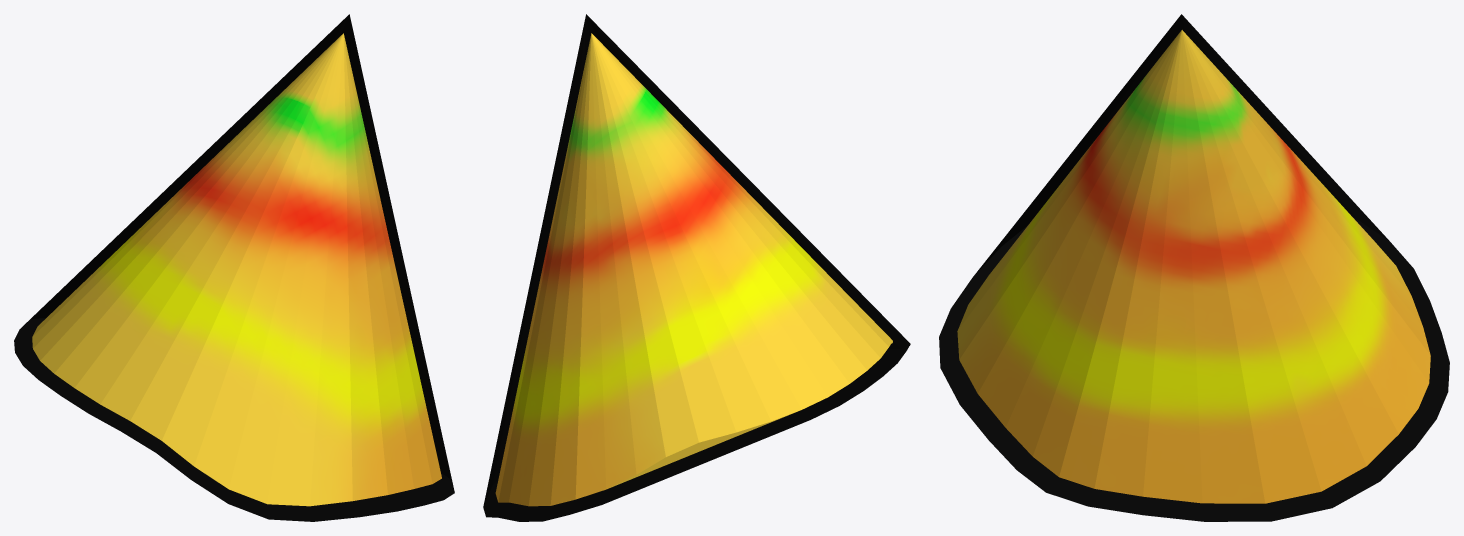
The model's file is 生日帽.fbx.
3 views of the same model, side by side, from view 1: azimuth 30°, elevation 25°; view 2: azimuth 150°, elevation 25°; view 3: azimuth 270°, elevation 25° (orthographic). The views are drawn at different scales.
Parts seen in each view (by area): view 1: 锥体; view 2: 锥体; view 3: 锥体.
Part boxes in pixels (<box>): 锥体: <box>14,14,454,521</box>; 锥体: <box>483,14,910,521</box>; 锥体: <box>939,14,1449,521</box>.
Size of the model in its own units: 0.2075 by 0.2555 by 0.2459.
